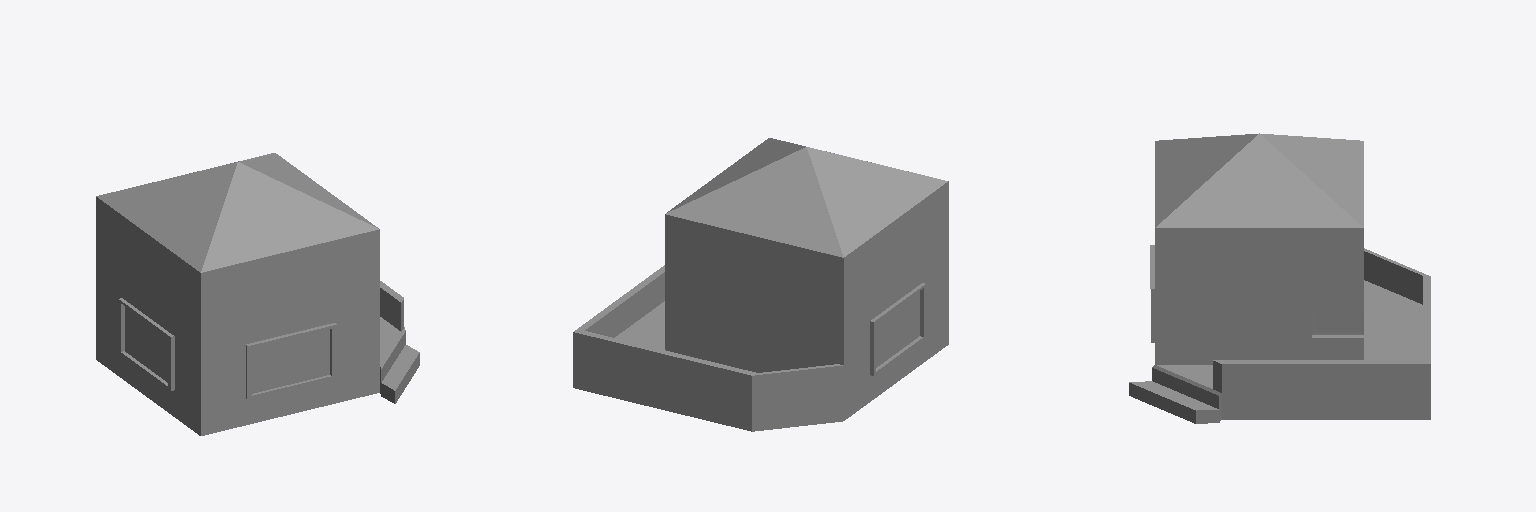
Rendered from suburb_house.obj.
3 views of the same model, side by side, from view 1: azimuth 30°, elevation 25°; view 2: azimuth 150°, elevation 25°; view 3: azimuth 270°, elevation 25° (orthographic).
Parts seen in each view (by area): view 1: Cube; view 2: Cube; view 3: Cube.
Boxes of the visible parts, x1=… form: Cube: x1=96, y1=153, x2=419, y2=435; Cube: x1=573, y1=138, x2=948, y2=431; Cube: x1=1129, y1=133, x2=1430, y2=423.
Size of the model in its own units: 5.98 by 5.1 by 6.44.